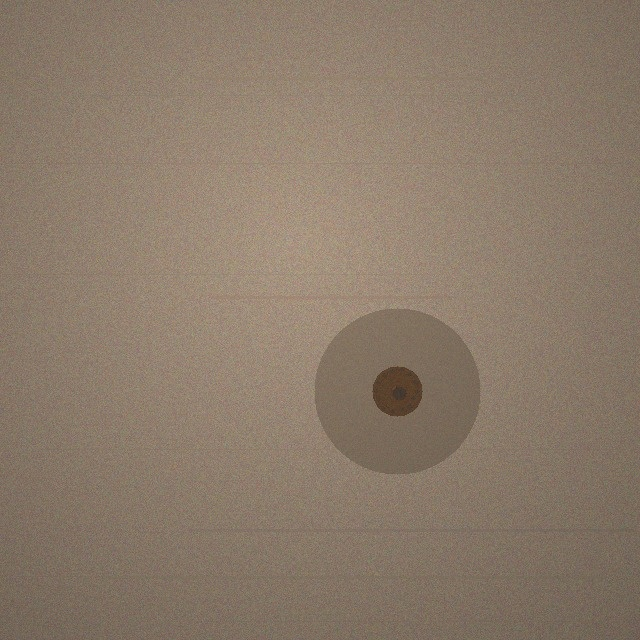cold_weld: (314, 308, 480, 474)
